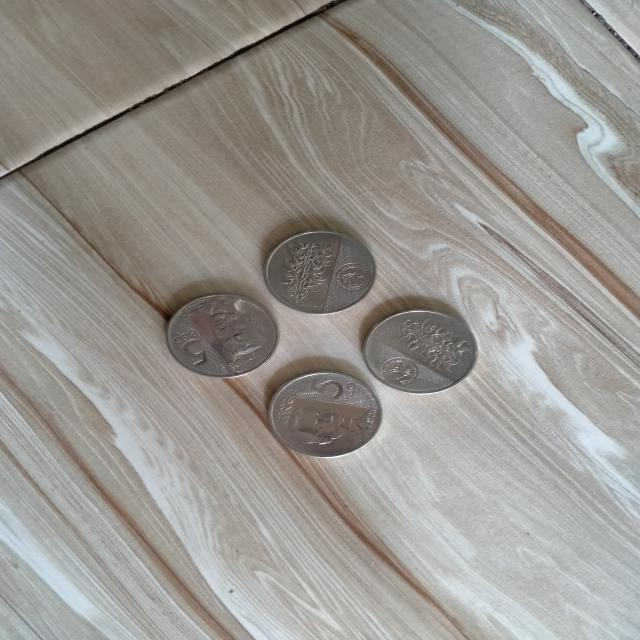5_New_Back: (384, 308, 473, 376), (269, 235, 336, 303)
5_New_Front: (297, 368, 364, 410), (163, 324, 214, 372)
